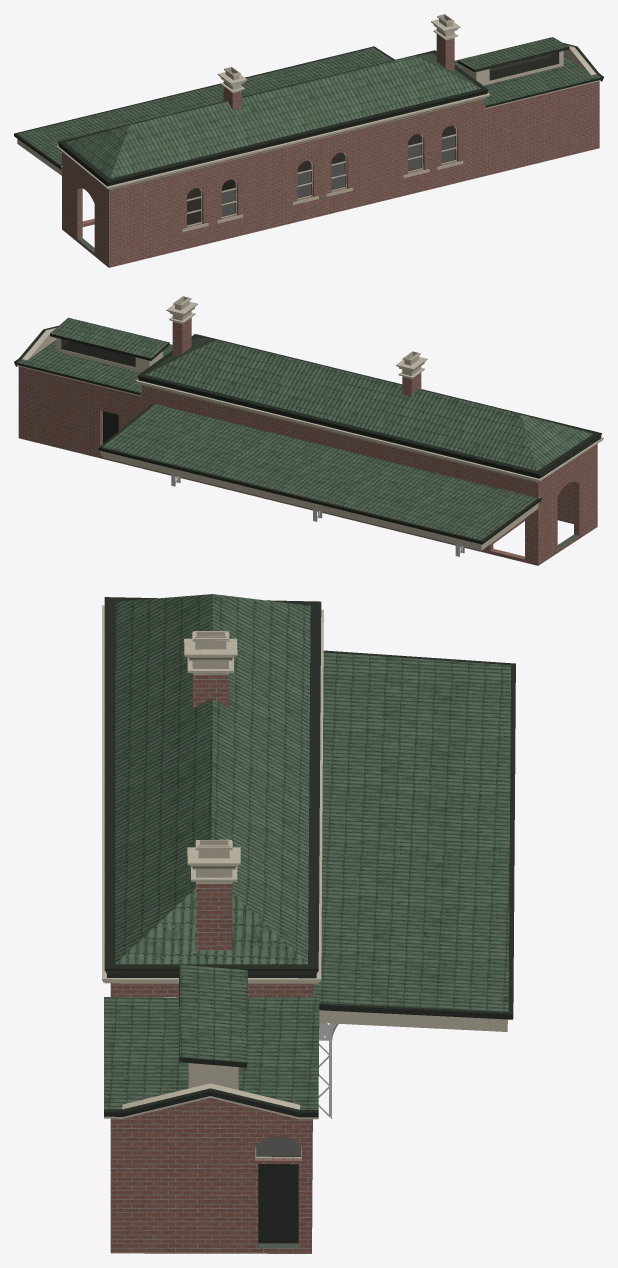
Rendered from StationBuilding-C.fbx.
3 renders of one model, top to bottom at view 1: azimuth 30°, elevation 25°; view 2: azimuth 150°, elevation 25°; view 3: azimuth 270°, elevation 25°, orthographic. The views are drawn at different scales.
Parts seen in each view (by area): view 1: StationBuilding-C; view 2: StationBuilding-C; view 3: StationBuilding-C.
Part boxes in pixels (x1,y1,x2,y2): StationBuilding-C: (14,14,603,267); StationBuilding-C: (14,296,603,565); StationBuilding-C: (102,594,515,1253).
Bounding box in the file's own units: 26.13 × 7.4 × 9.41.
